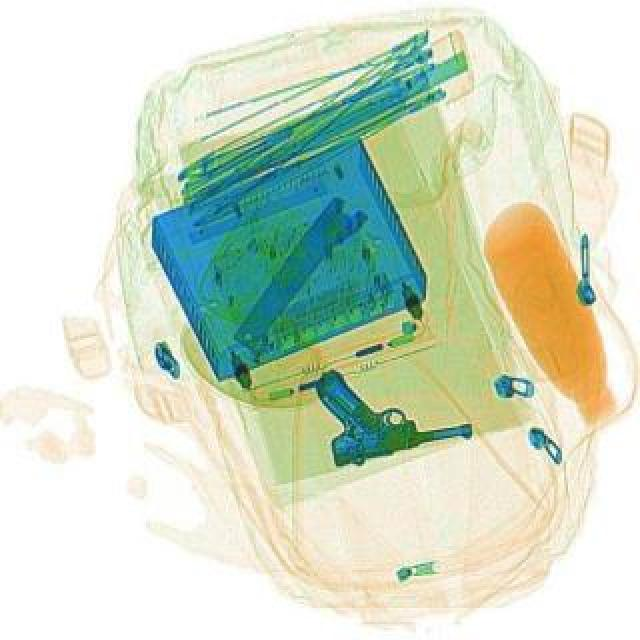gun: (308, 346, 476, 468)
